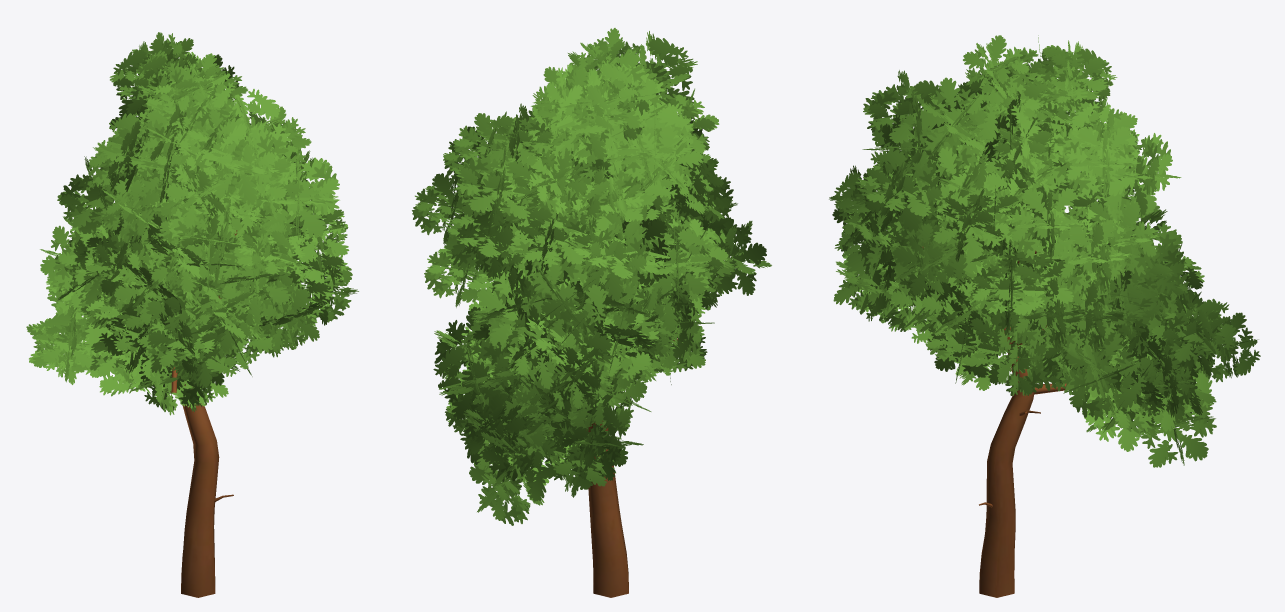
Rendered from STOak2.glb.
3 views of the same model, side by side, from view 1: azimuth 30°, elevation 25°; view 2: azimuth 150°, elevation 25°; view 3: azimuth 270°, elevation 25° (orthographic). The views are drawn at different scales.
Visible parts, largest first — view 1: STOak2_Leaves, STOak2_Trunk; view 2: STOak2_Leaves, STOak2_Trunk; view 3: STOak2_Leaves, STOak2_Trunk.
Boxes of the visible parts, box(x1,y1,x2,y2) form: STOak2_Leaves: box(26, 32, 358, 415); STOak2_Trunk: box(171, 230, 237, 597); STOak2_Leaves: box(412, 28, 771, 525); STOak2_Trunk: box(586, 338, 677, 597); STOak2_Leaves: box(829, 35, 1260, 467); STOak2_Trunk: box(922, 246, 1066, 597).
Bounding box in the file's own units: 10.58 × 20.28 × 14.93.
Materials: 2 (2 with a texture image).
